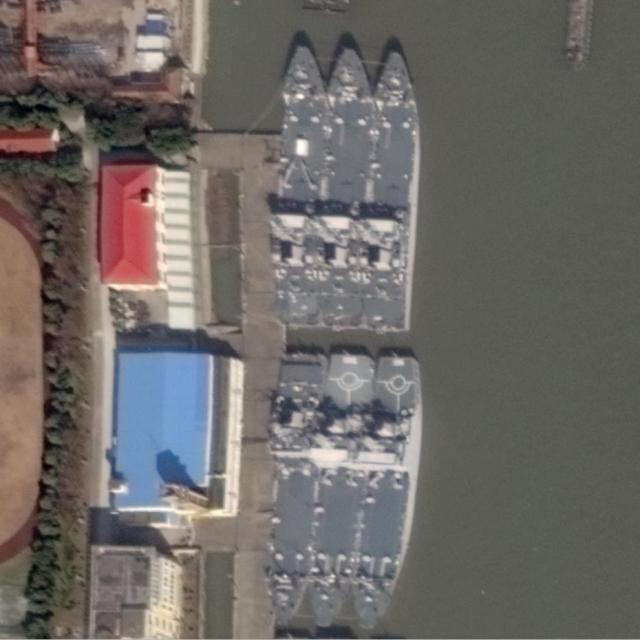Landing: (299, 352, 375, 636), (354, 353, 423, 637), (260, 352, 323, 629), (319, 45, 371, 332), (277, 43, 327, 328), (369, 42, 416, 330)
